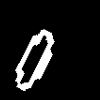chain: (15, 30, 53, 90)
